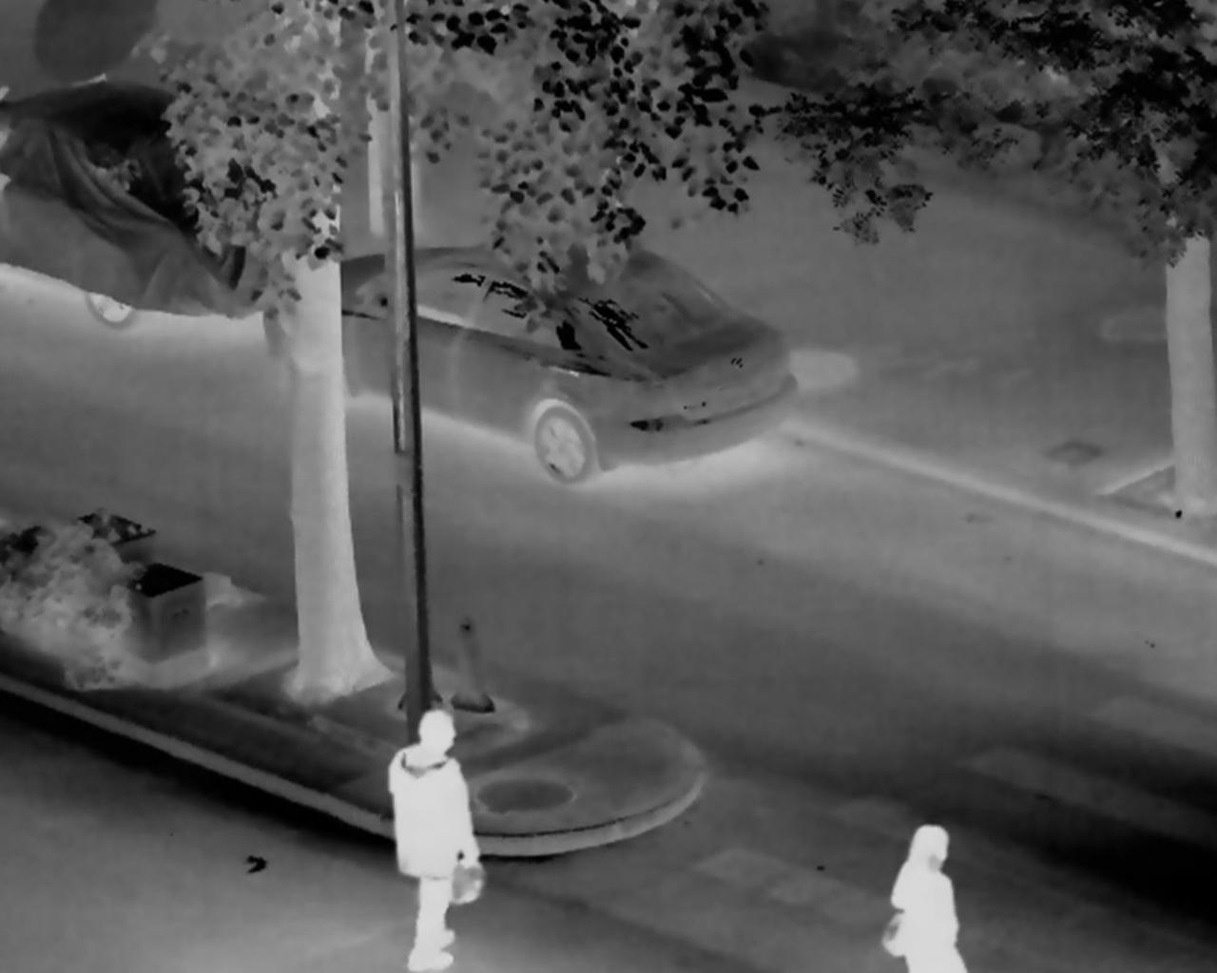person: (386, 709, 485, 973), (887, 825, 964, 973)
